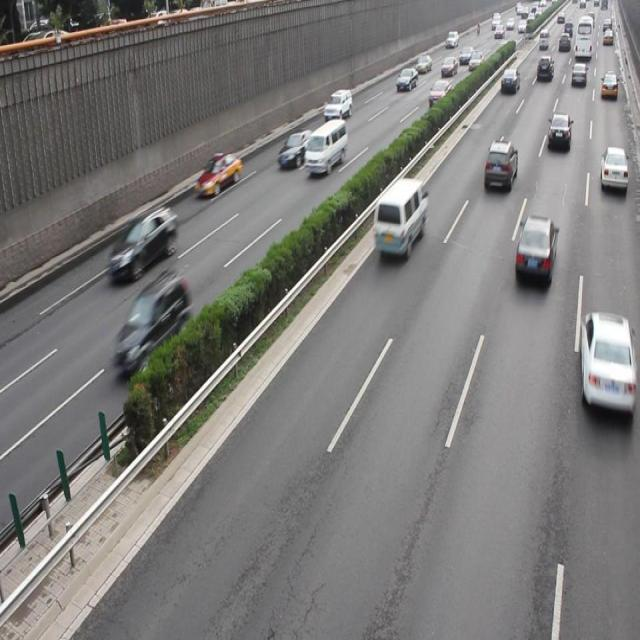car: (114, 268, 192, 378), (577, 310, 640, 418), (109, 204, 178, 282), (514, 213, 556, 284), (194, 150, 242, 198), (483, 140, 517, 191), (598, 144, 627, 193), (278, 129, 314, 167), (546, 111, 570, 152), (322, 87, 352, 119)
truck: (372, 176, 426, 257), (304, 116, 346, 173)
